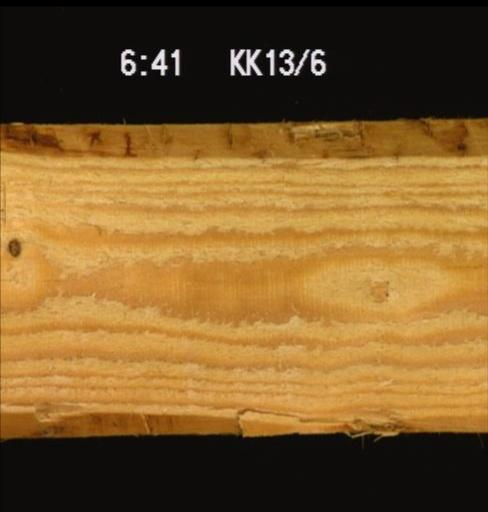dry_knot: (2, 233, 23, 258)
wave: (0, 116, 485, 164), (0, 389, 441, 439)
